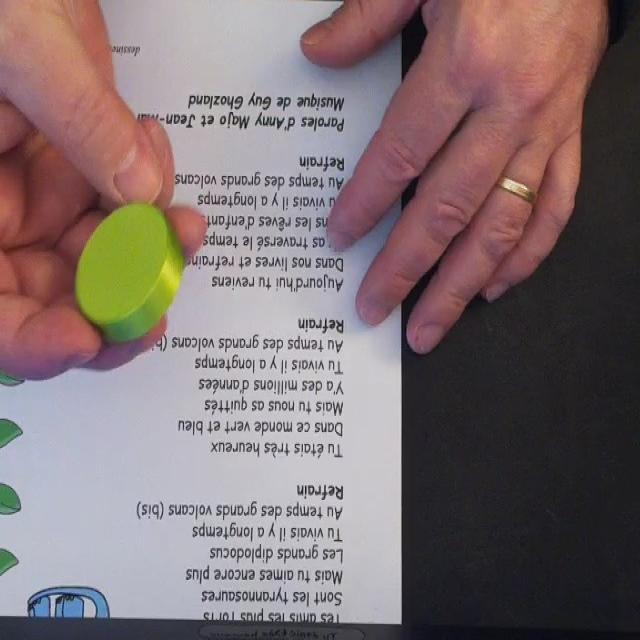round: (74, 200, 184, 344)
